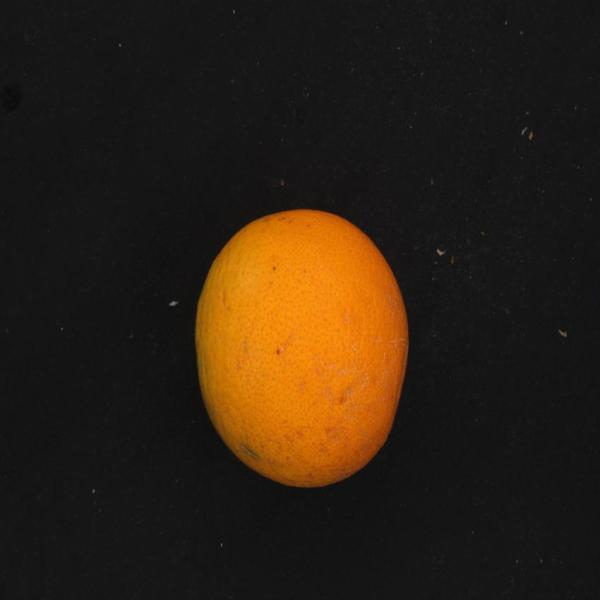Sana: (184, 185, 420, 513)
